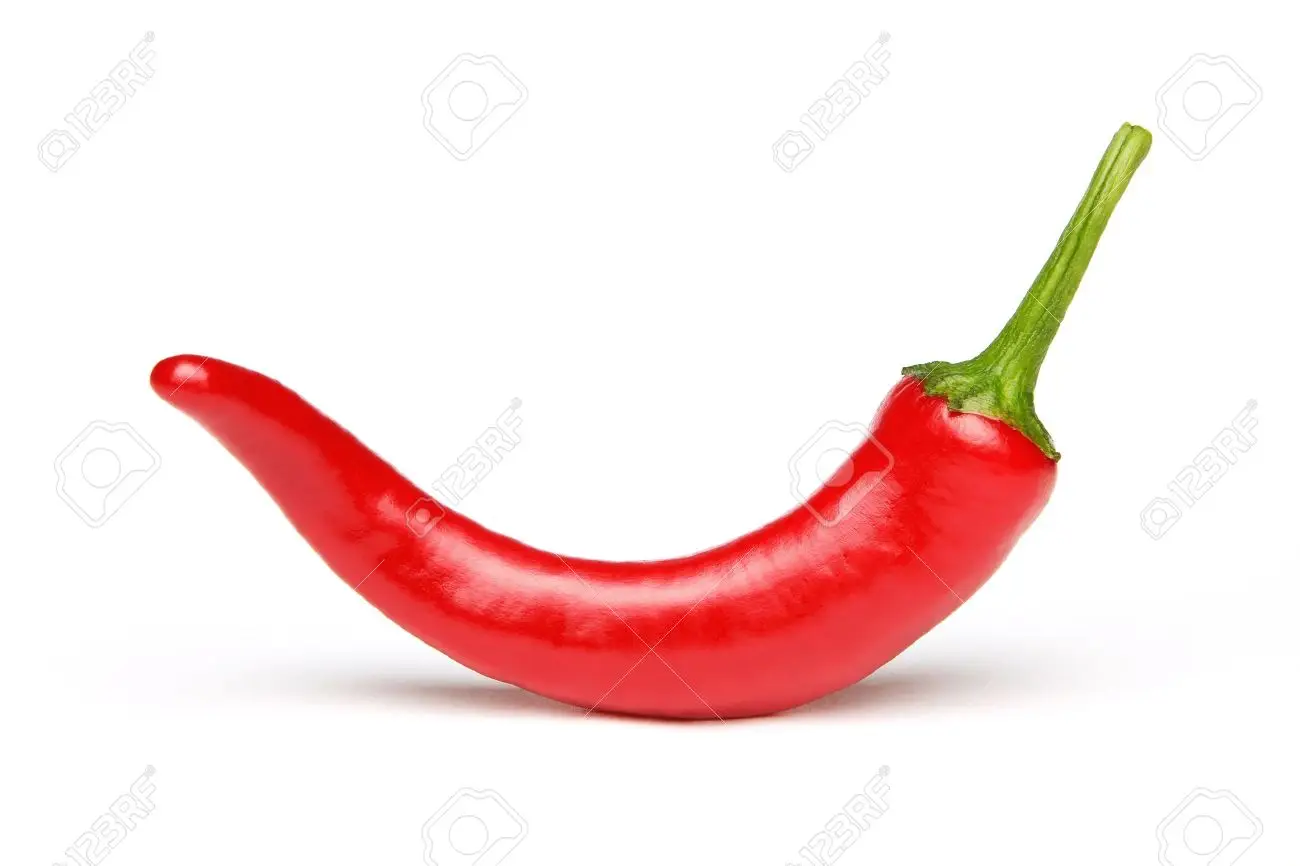Cabai: (99, 85, 1275, 773)
